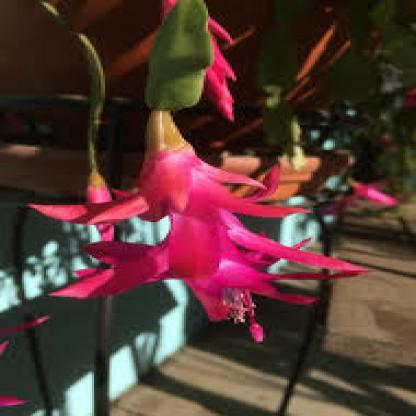Aglonema: (80, 162, 416, 401)
